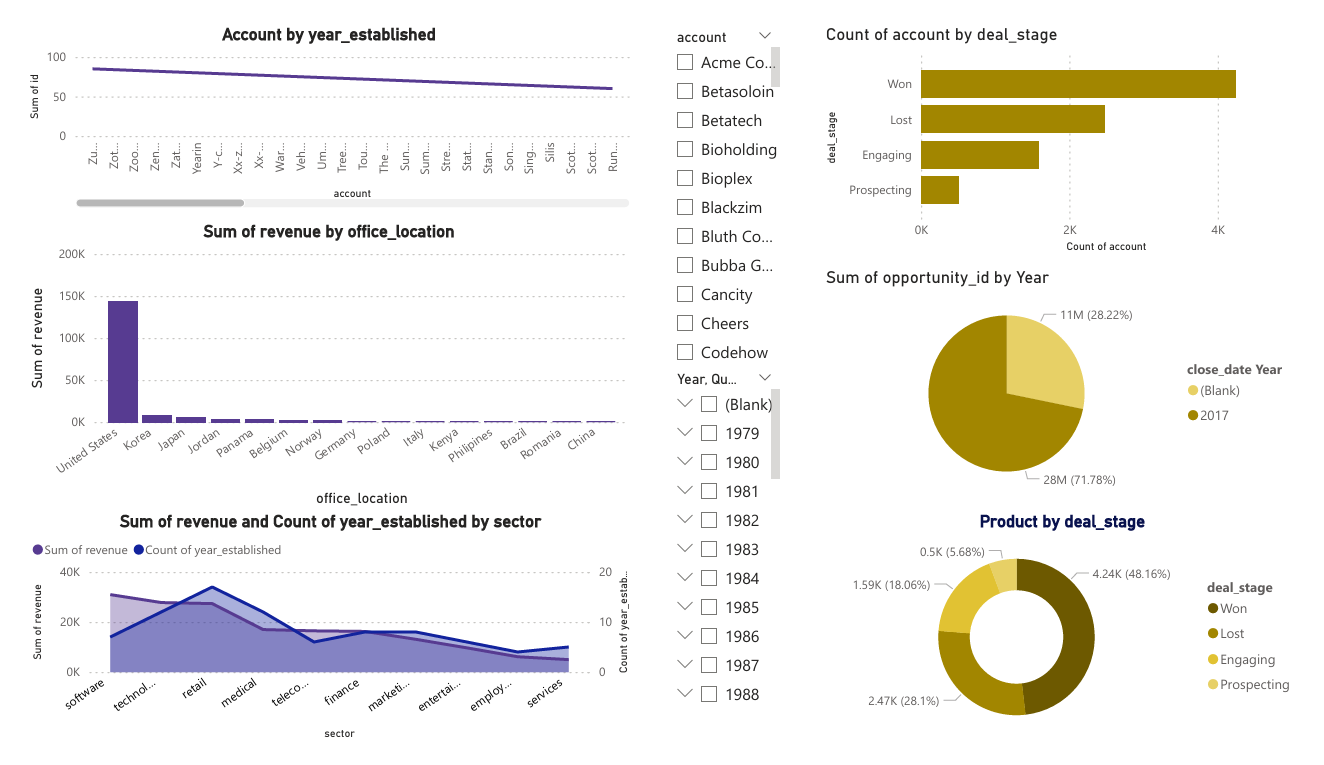

The page's visual inventory and layout, read from the dashboard file:
{"tool":"powerbi","page":{"name":"Page 1","canvas":[1280,720],"ordinal":0},"visuals":[{"type":"barChart","fields":{"Category":["sales_pipelineOut.deal_stage"],"Y":["CountNonNull(sales_pipelineOut.account)"]},"box":[797,0,483,233],"z":0},{"type":"donutChart","title":"Product by deal_stage","fields":{"Category":["sales_pipelineOut.deal_stage"],"Y":["CountNonNull(sales_pipelineOut.product)"]},"box":[797,487,483,233],"z":1000},{"type":"lineStackedColumnComboChart","fields":{"Y":["Sum(accountsOut.revenue)"],"Category":["accountsOut.office_location"]},"box":[0,197,610,290],"z":2000},{"type":"lineChart","title":"Account by year_established","fields":{"Category":["accountsOut.account"],"Y":["Sum(accountsOut.id)"]},"box":[0,0,610,188],"z":3000},{"type":"areaChart","fields":{"Category":["accountsOut.sector"],"Y":["Sum(accountsOut.revenue)"],"Y2":["CountNonNull(accountsOut.year_established)"]},"box":[3,487,607,233],"z":4000},{"type":"pieChart","fields":{"Y":["Sum(sales_pipelineOut.opportunity_id)"],"Category":["sales_pipelineOut.close_date.Variation.Date Hierarchy.Year","sales_pipelineOut.close_date.Variation.Date Hierarchy.Quarter","sales_pipelineOut.close_date.Variation.Date Hierarchy.Month","sales_pipelineOut.close_date.Variation.Date Hierarchy.Day"]},"box":[797,243,483,234],"z":5000},{"type":"slicer","fields":{"Values":["sales_pipelineOut.account"]},"box":[640,0,120,342],"z":6000},{"type":"slicer","fields":{"Values":["accountsOut.year_established.Variation.Date Hierarchy.Year","accountsOut.year_established.Variation.Date Hierarchy.Quarter","accountsOut.year_established.Variation.Date Hierarchy.Month","accountsOut.year_established.Variation.Date Hierarchy.Day"]},"box":[640,342,120,351],"z":7000}]}

Visuals, with their boxes in screenshot pixels (x1, y1, x2, y2), scaled from the page's 1280x720 canvas onto the 1324x765 screenshot:
barChart - sales_pipelineOut.deal_stage x CountNonNull(sales_pipelineOut.account): 824 0 1323 248
"Product by deal_stage" donutChart: 824 517 1323 764
lineStackedColumnComboChart - Sum(accountsOut.revenue) x accountsOut.office_location: 0 209 631 517
"Account by year_established" lineChart: 0 0 631 200
areaChart - accountsOut.sector x Sum(accountsOut.revenue): 3 517 631 764
pieChart - Sum(sales_pipelineOut.opportunity_id) x sales_pipelineOut.close_date.Variation.Date Hierarchy.Year: 824 258 1323 507
slicer - sales_pipelineOut.account: 662 0 786 363
slicer - accountsOut.year_established.Variation.Date Hierarchy.Year x accountsOut.year_established.Variation.Date Hierarchy.Quarter: 662 363 786 736
